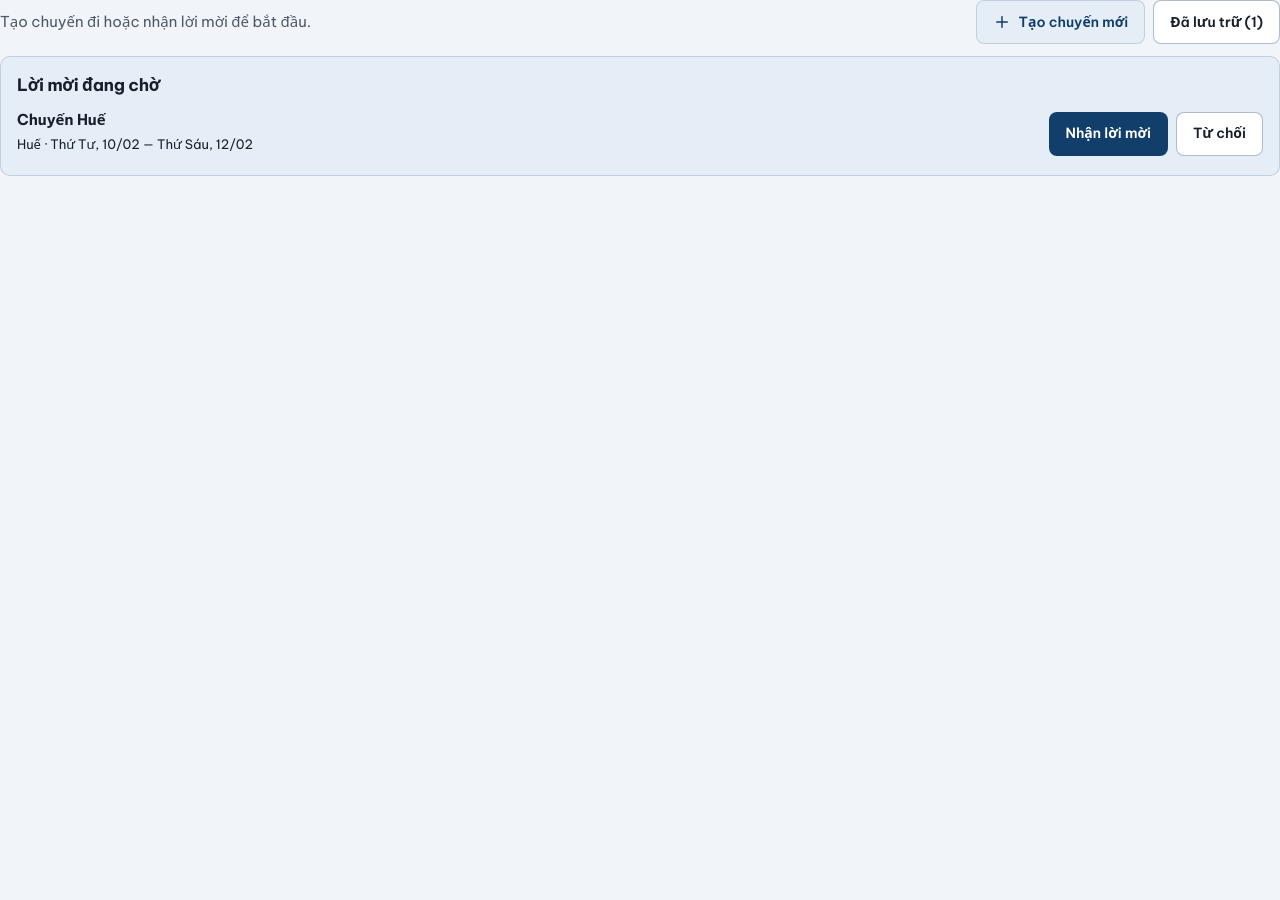
Test: TripManager › lets an owner restore from the archived list with no active trip and retry a failed restore
This screenshot has width=1280, height=900.
Click the button "Đã lưu trữ (1)". click: (1217, 22)
box: [1153,0,1279,44]
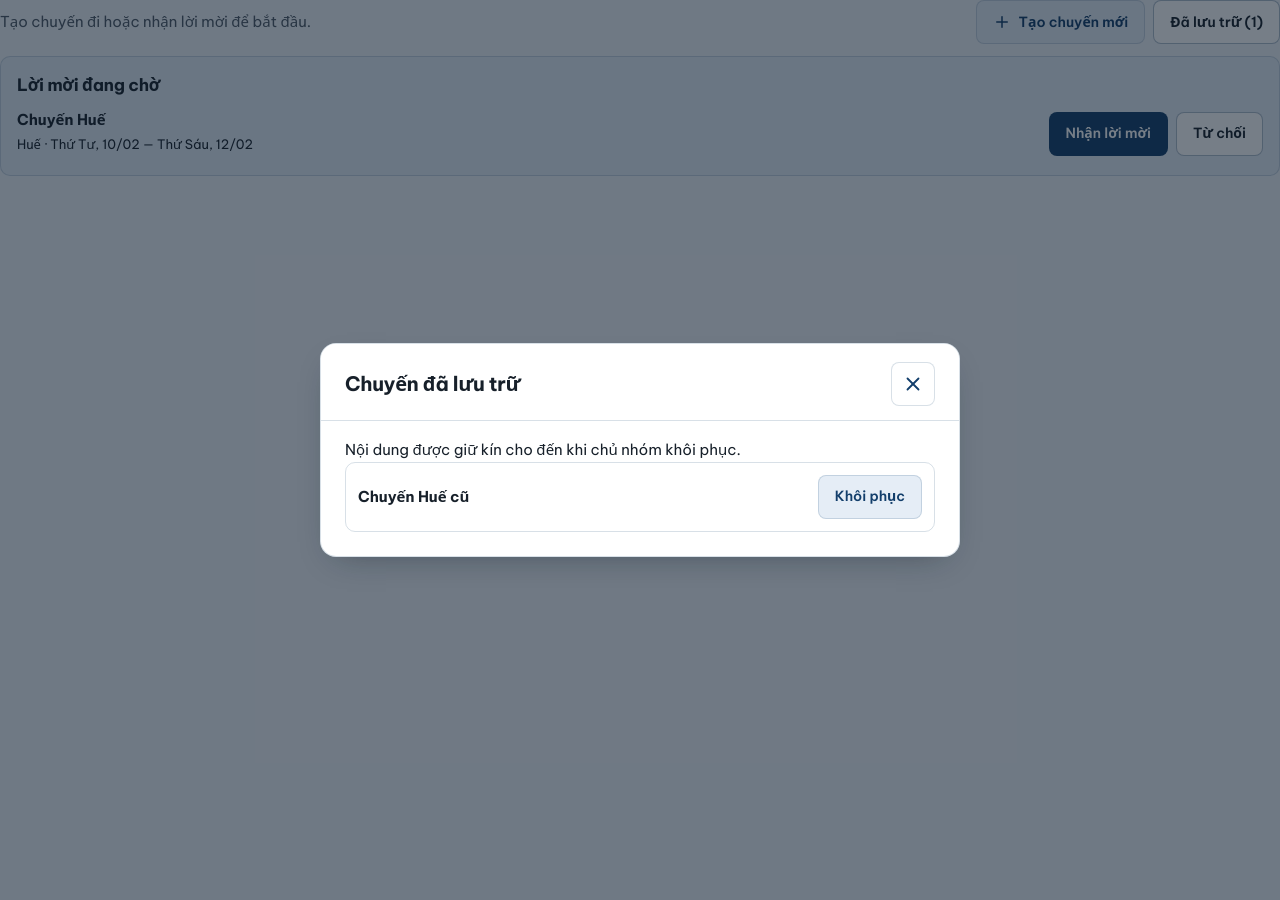
Expected: the dialog shows "Nội dung được giữ kín", [345,440,741,459]
Click the button with aria-label "Khôi phục Chuyến Huế cũ". click: (870, 497)
box: [818,475,922,519]
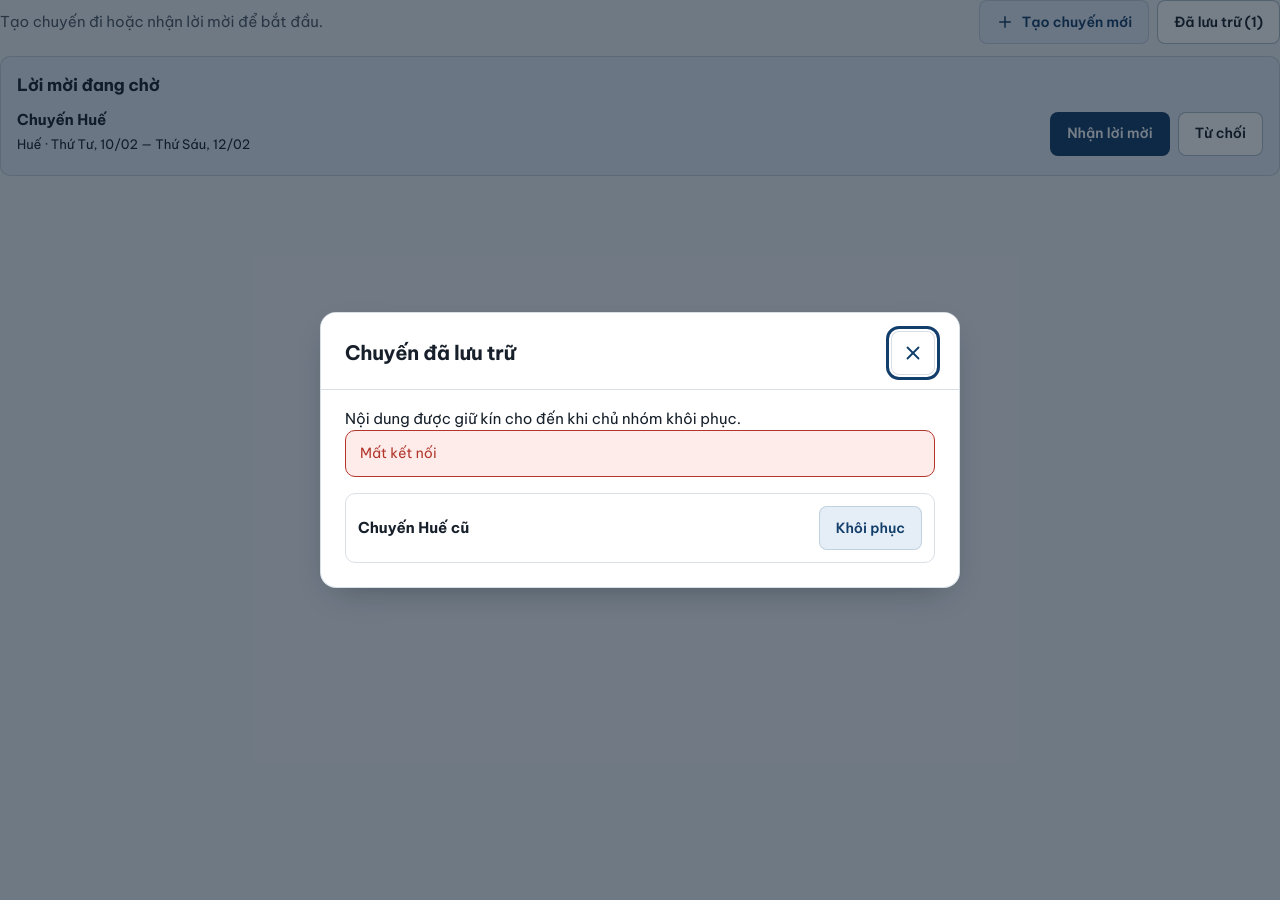
Expected: the message reads "Mất kết nối", [360,444,437,462]
Click the button with aria-label "Khôi phục Chuyến Huế cũ". click: (870, 528)
box: [819,506,922,550]
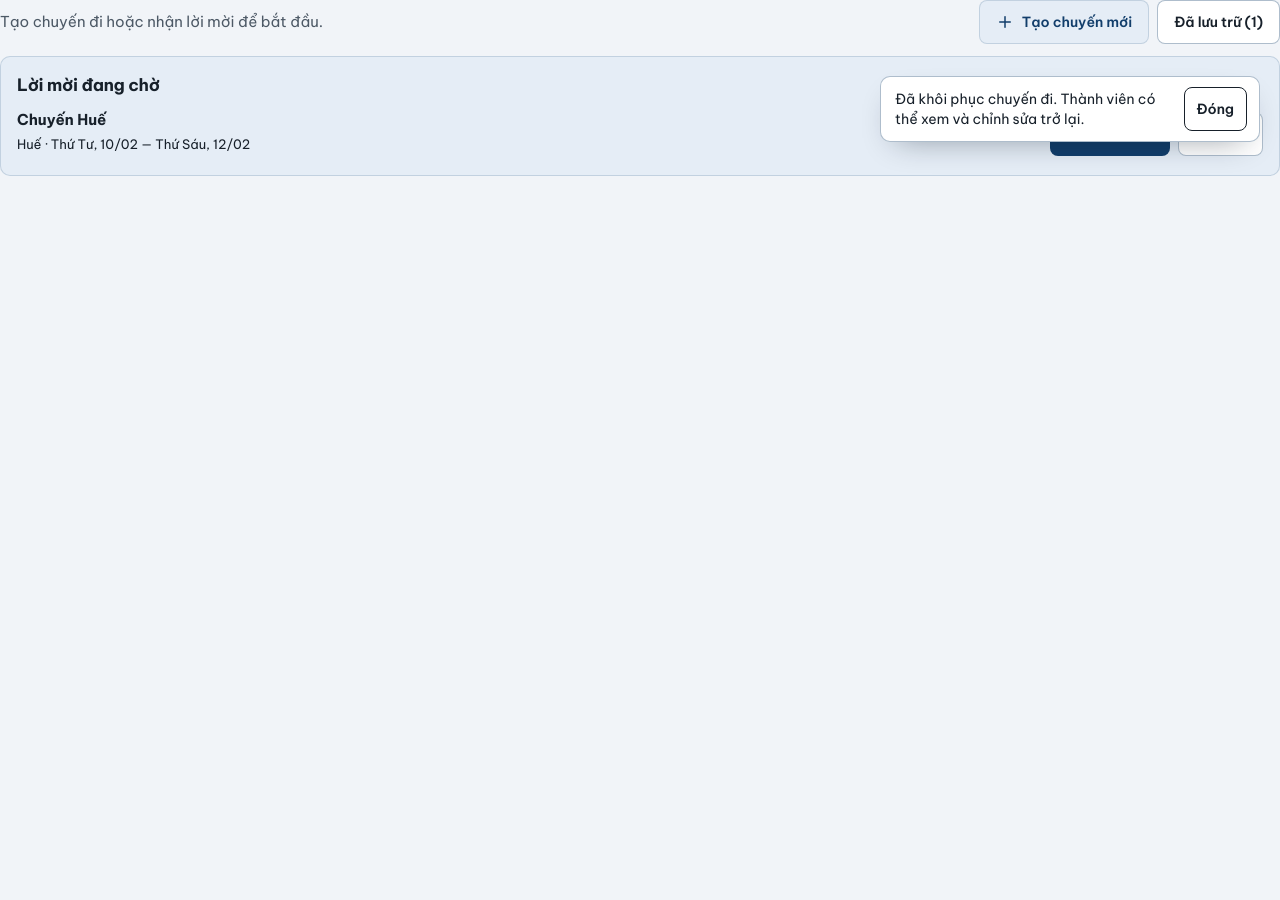
Expected: the dialog is gone
